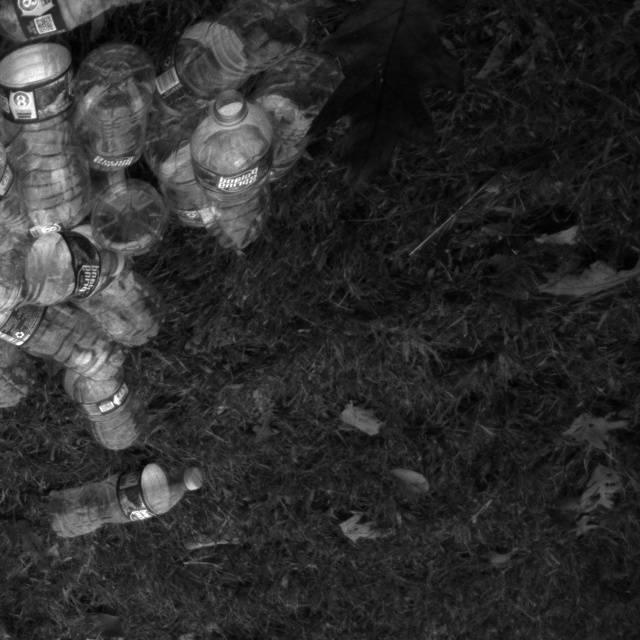bottle: (0, 37, 109, 245), (30, 445, 211, 551), (186, 84, 272, 266), (47, 337, 154, 463), (0, 225, 128, 309), (0, 0, 166, 52)
